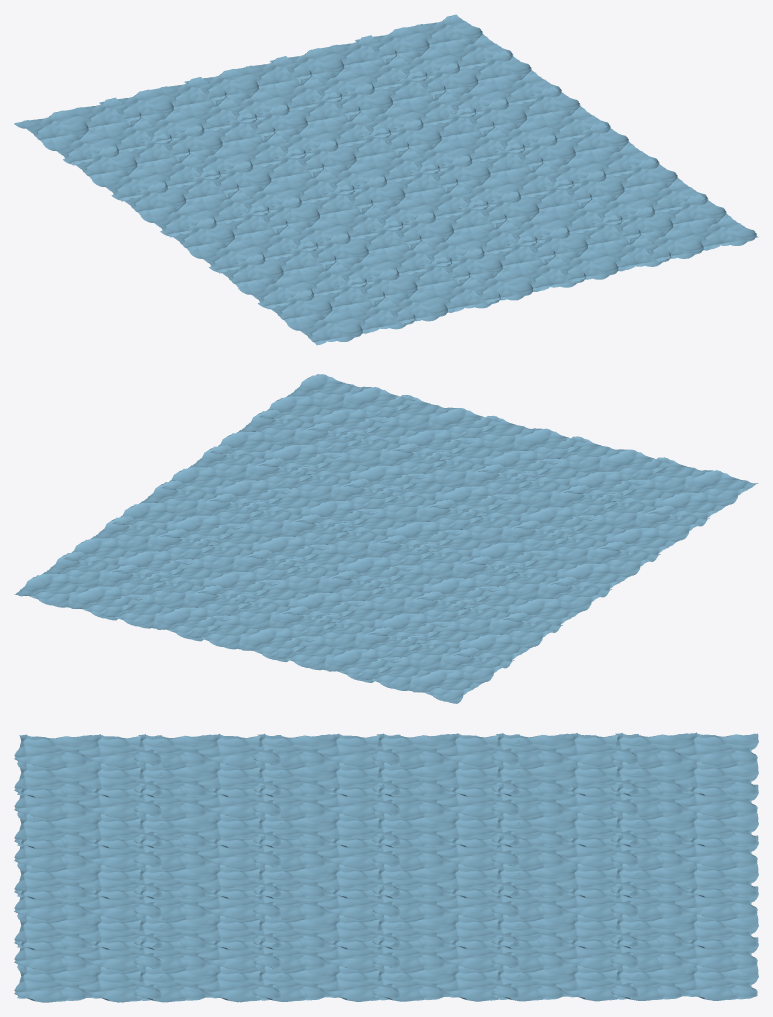
Rendered from Water.glb.
3 views of the same model, one above another, from view 1: azimuth 30°, elevation 25°; view 2: azimuth 150°, elevation 25°; view 3: azimuth 270°, elevation 25° (orthographic). The views are drawn at different scales.
Visible parts, largest first — view 1: Plane__CopyShape.003; view 2: Plane__CopyShape.003; view 3: Plane__CopyShape.003.
Boxes of the visible parts, box(x1,y1,x2,y2) form: Plane__CopyShape.003: box(14, 14, 758, 345); Plane__CopyShape.003: box(14, 374, 758, 703); Plane__CopyShape.003: box(14, 732, 758, 1002).
Size of the model in its own units: 9.24 by 0.1072 by 10.9.
